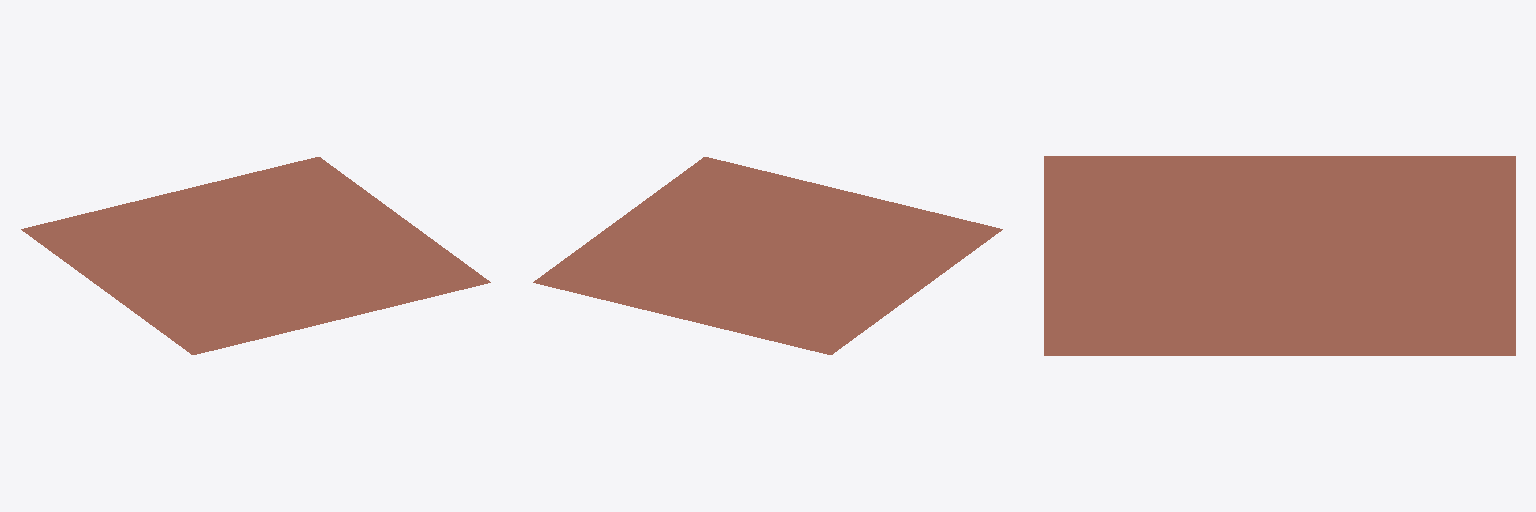
robot.urdf — plane:
<?xml version="0.0" ?>
<robot name="plane">
  <link name="planeLink">
  <contact>
      <lateral_friction value="1"/>
  </contact>
    <inertial>
      <origin rpy="0 0 0" xyz="0 0 0"/>
       <mass value=".0"/>
       <inertia ixx="0" ixy="0" ixz="0" iyy="0" iyz="0" izz="0"/>
    </inertial>
    <visual>
      <origin rpy="0 0 0" xyz="0 0 0"/>
      <geometry>
        <mesh filename="plane.obj" scale="1 1 1"/>
      </geometry>
       <material name="brown">
        <color rgba=".72 .47 .40 1"/>
      </material>
    </visual>
    <collision>
      <origin rpy="0 0 0" xyz="0 0 -5"/>
      <geometry>
	 	<box size="200 200 10"/>
      </geometry>
    </collision>
  </link>
</robot>

--- Render facts (derived) ---
Views: 3 orthographic renders of the robot side by side, from view 1: azimuth 30°, elevation 25°; view 2: azimuth 150°, elevation 25°; view 3: azimuth 270°, elevation 25°.
Robot: plane — 1 links, 0 joints (none); root link planeLink; default pose: all joints at 0.
Visible links, largest first — view 1: planeLink; view 2: planeLink; view 3: planeLink.
Boxes of the visible links, x1=… form: planeLink: x1=21, y1=157, x2=490, y2=354; planeLink: x1=533, y1=157, x2=1002, y2=354; planeLink: x1=1044, y1=156, x2=1515, y2=355.
Bounding box of the posed robot: 200 × 200 × 0 m (x, y, z).
Meshes: 1 distinct files referenced, 1 mesh visuals loaded (1 OBJ).
